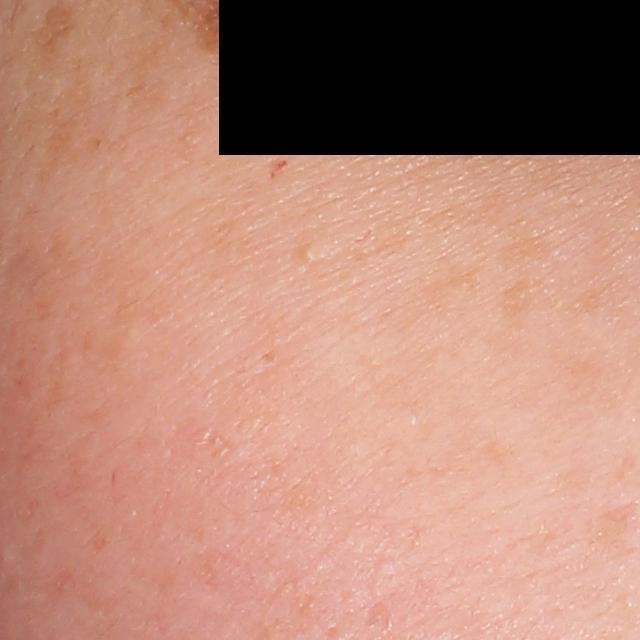comedo: (291, 239, 322, 264)
melasma: (553, 269, 630, 325), (498, 217, 570, 271), (28, 3, 78, 63), (496, 276, 551, 321)
